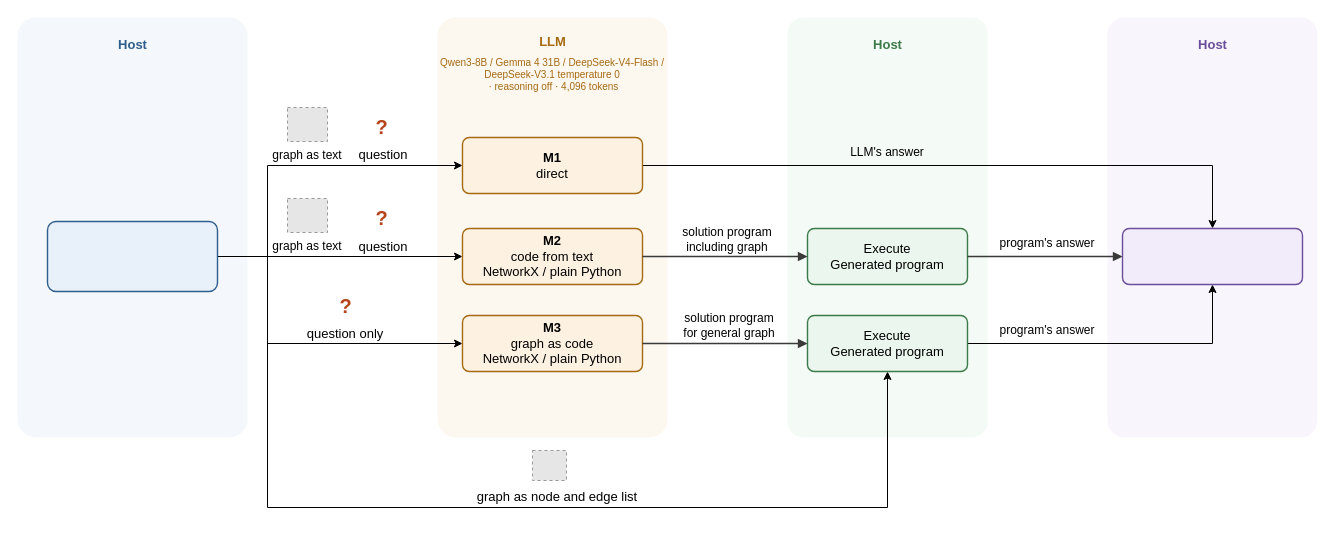
Some shapes in this 1334 by 533 pixel diagram are drawn without their labels. Grey dashed boxes stand in for pictures. The centre of each missing label's shape, as x and y in pixels:
"Dataset GraphQA / Erdős" belongs at point (132, 256).
"Scoring correct? same under every form?" belongs at point (1212, 256).
